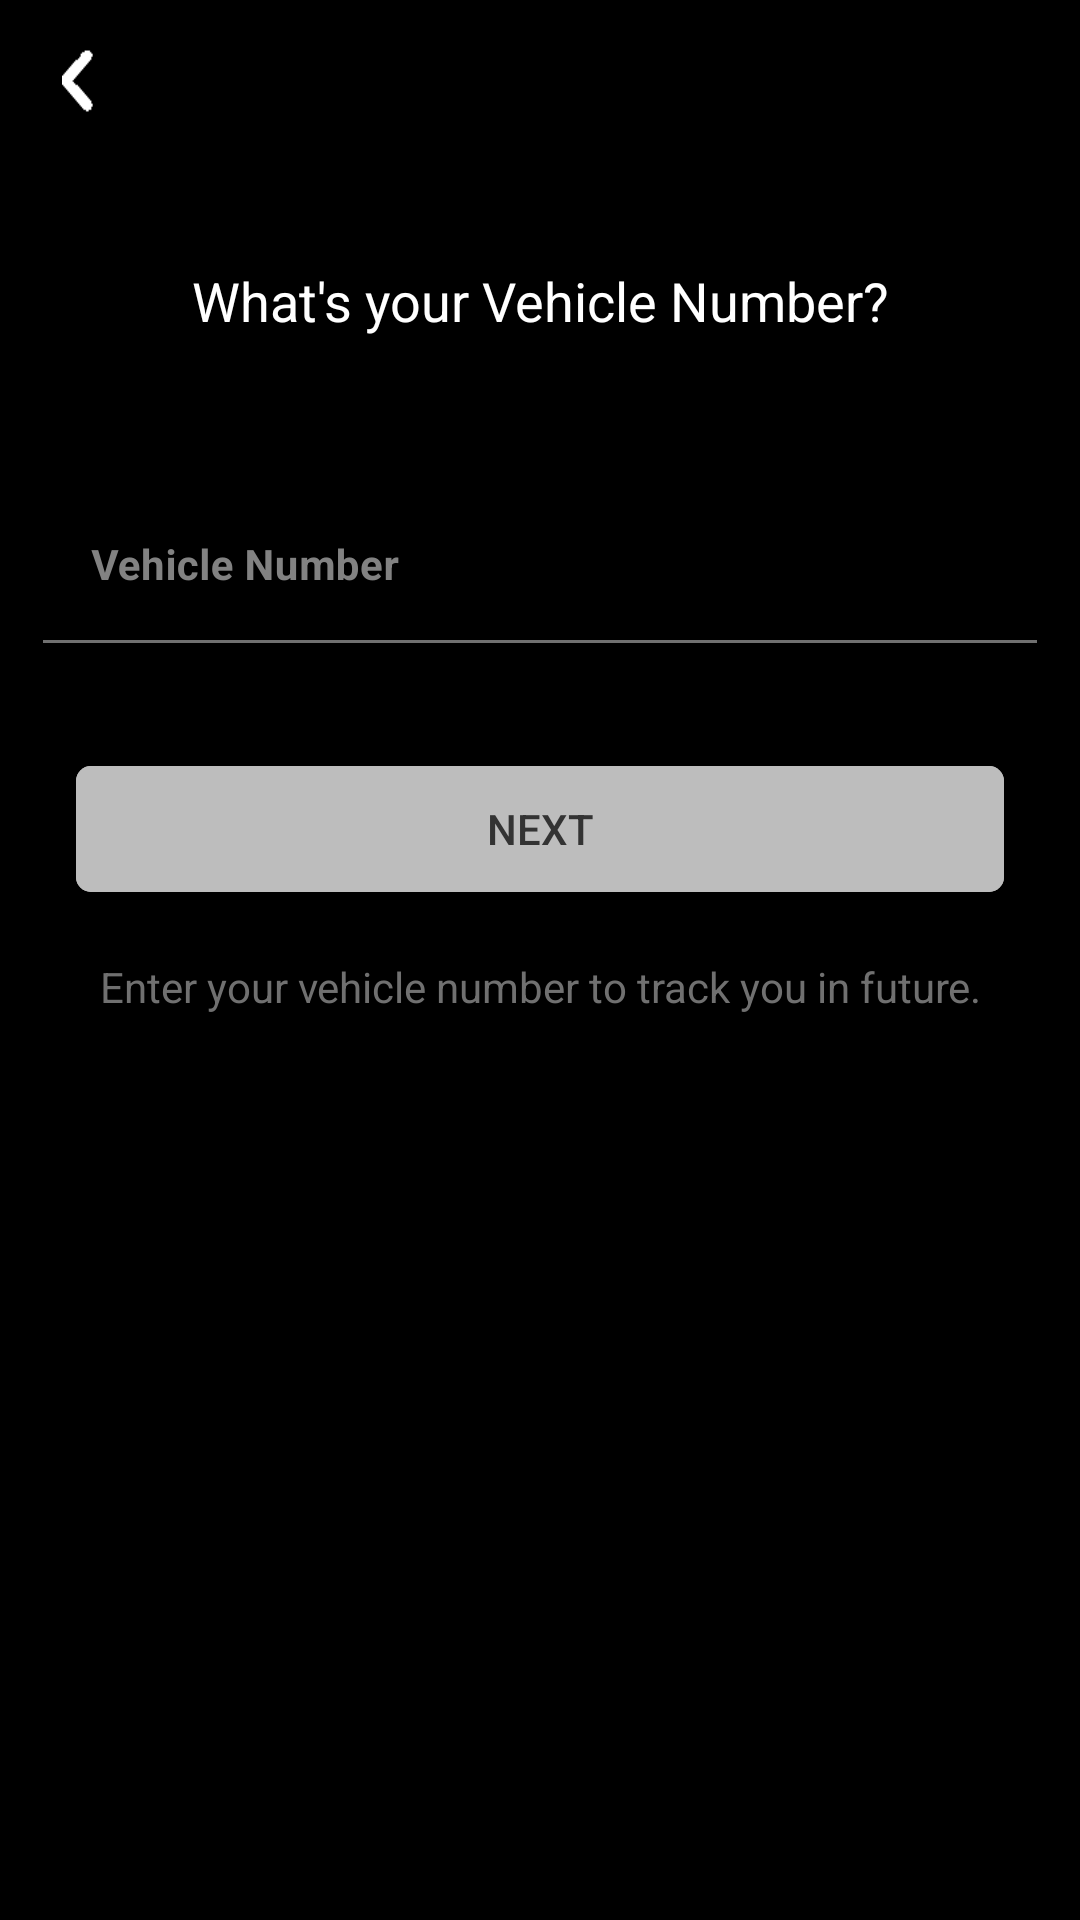

Named icons in this screenshot (1080px×1920px) and their centers, point (x, y):
back: point (77, 81)
